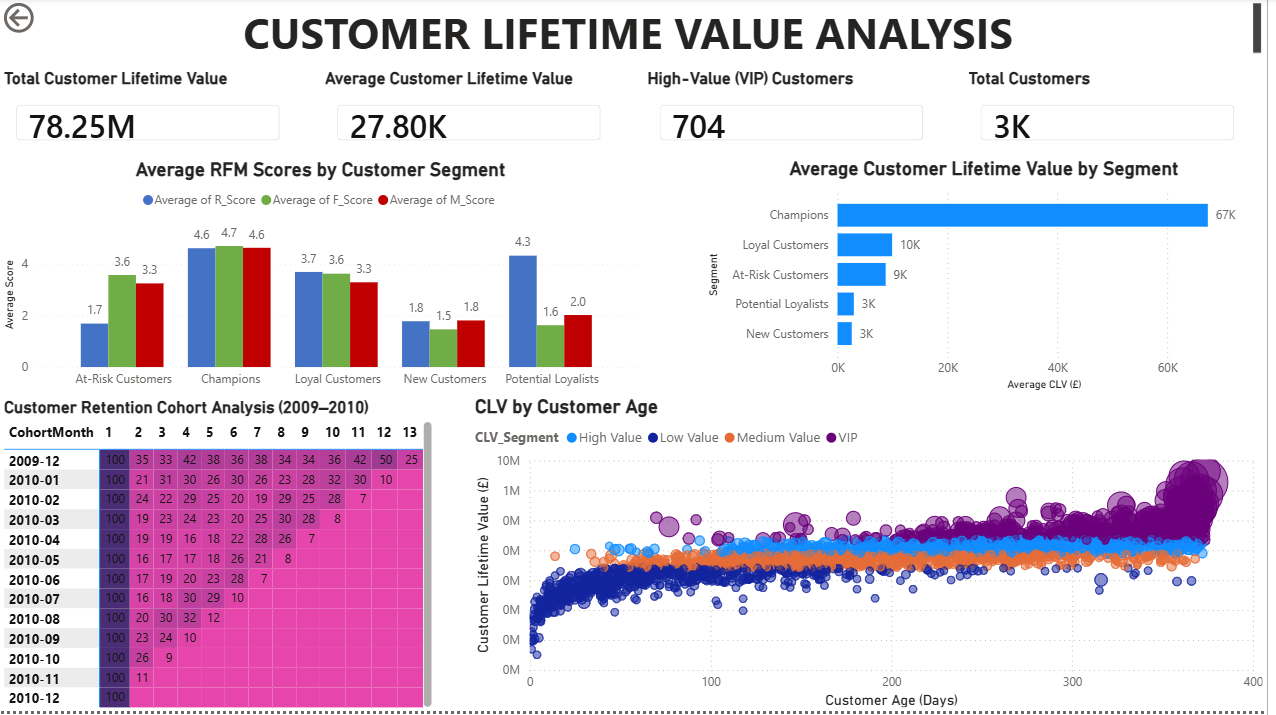

The dashboard page shown, as its layout file describes it:
{"tool":"powerbi","page":{"name":"Page 2","canvas":[1280,720],"ordinal":1},"visuals":[{"type":"cardVisual","title":"Average Customer Lifetime Value","fields":{"Data":["clv_segments.Average CLV"]},"box":[324.7,71.2,300,90],"z":0},{"type":"cardVisual","title":"Total Customer Lifetime Value","fields":{"Data":["clv_segments.Total CLV"]},"box":[0,71.2,300,90],"z":1000},{"type":"cardVisual","title":"High-Value (VIP) Customers","fields":{"Data":["clv_segments.VIP Customers"]},"box":[649.3,71.2,300,90],"z":2000},{"type":"cardVisual","title":"Total Customers","fields":{"Data":["clv_segments.Total Customer"]},"box":[974,71.2,290,90],"z":3000},{"type":"pivotTable","title":"Customer Retention Cohort Analysis (2009–2010)","fields":{"Rows":["cohort_matrix.CohortMonth"],"Columns":["cohort_matrix.CohortIndex"],"Values":["Sum(cohort_matrix.RetentionRate)"]},"box":[0,402.5,442.3,318],"z":4000},{"type":"textbox","box":[0,0,1278.8,71.2],"z":5000},{"type":"clusteredColumnChart","title":"Average RFM Scores by Customer Segment","fields":{"Category":["rfm_segments.Segment"],"Y":["Avg(rfm_segments.R_Score)","Avg(rfm_segments.F_Score)","Avg(rfm_segments.M_Score)"]},"box":[0,162.3,649.3,240.2],"z":6000},{"type":"clusteredBarChart","title":"Average Customer Lifetime Value by Segment","fields":{"Category":["rfm_segments.Segment"],"Y":["Avg(clv_segments.CLV)"]},"box":[710.6,160.7,568.2,240.2],"z":7000},{"type":"scatterChart","title":"CLV by Customer Age","fields":{"X":["clv_segments.CustomerAgeDays"],"Y":["clv_segments.CLV"],"Series":["clv_segments.CLV_Segment"],"Size":["Sum(clv_segments.Frequency)"]},"box":[475.4,400.9,805,319.7],"z":8000},{"type":"actionButton","box":[0,0,100,40],"z":9000}]}

Visuals, with their boxes in screenshot pixels (x1, y1, x2, y2), scaled from the page's 1280x720 canvas onto the 1276x715 screenshot:
"Average Customer Lifetime Value" cardVisual: bbox=[324, 71, 623, 160]
"Total Customer Lifetime Value" cardVisual: bbox=[0, 71, 299, 160]
"High-Value (VIP) Customers" cardVisual: bbox=[647, 71, 946, 160]
"Total Customers" cardVisual: bbox=[971, 71, 1260, 160]
"Customer Retention Cohort Analysis (2009–2010)" pivotTable: bbox=[0, 400, 441, 714]
textbox: bbox=[0, 0, 1275, 71]
"Average RFM Scores by Customer Segment" clusteredColumnChart: bbox=[0, 161, 647, 400]
"Average Customer Lifetime Value by Segment" clusteredBarChart: bbox=[708, 160, 1275, 398]
"CLV by Customer Age" scatterChart: bbox=[474, 398, 1275, 714]
actionButton: bbox=[0, 0, 100, 40]
